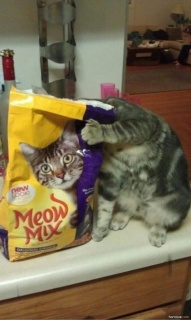Cat: (70, 95, 190, 247), (15, 118, 96, 227)
